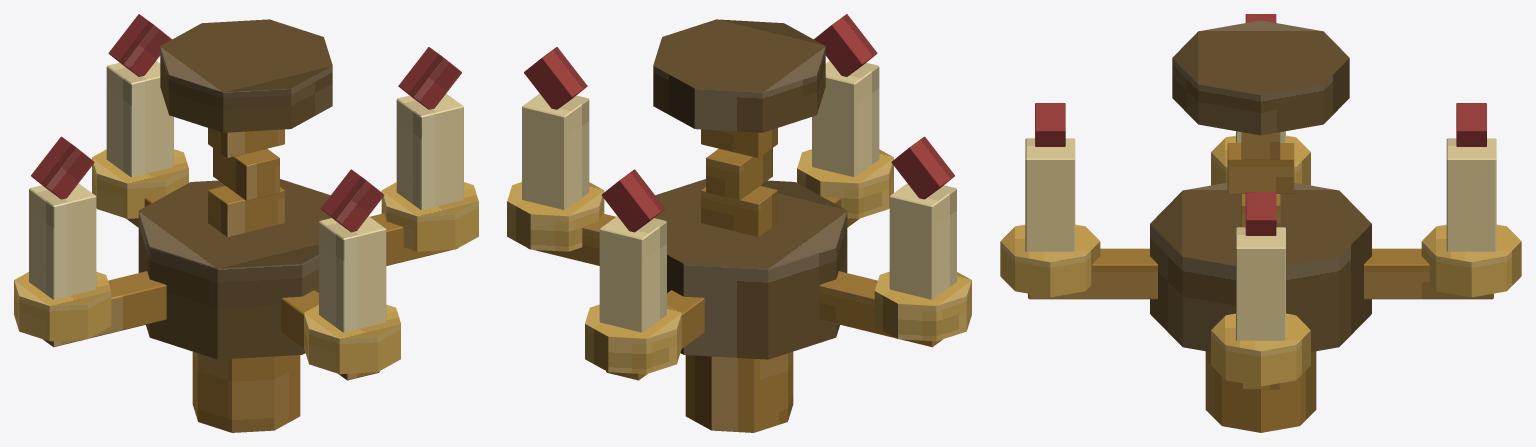
The model's file is dining_chandelier.glb.
3 views of the same model, side by side, from view 1: azimuth 30°, elevation 25°; view 2: azimuth 150°, elevation 25°; view 3: azimuth 270°, elevation 25° (orthographic).
Parts seen in each view (by area): view 1: ChandelierHub, CeilingMount, LowerFinial, Candle_1, Candle_3, Candle_2, Candle_4, CandleCup_1, CandleCup_3, CandleCup_2, CandleCup_4, Arm_1 (+9 smaller); view 2: ChandelierHub, CeilingMount, LowerFinial, Candle_1, Candle_4, Candle_2, Candle_3, CandleCup_1, CandleCup_4, CandleCup_2, CandleCup_3, Arm_1 (+9 smaller); view 3: ChandelierHub, CeilingMount, Candle_3, Candle_4, Candle_2, LowerFinial, CandleCup_2, CandleCup_3, CandleCup_4, Arm_3, Arm_4, ChainLink_2 (+5 smaller).
Part boxes in pixels (x1,y1,x2,y2): ChandelierHub: (138, 179, 331, 359); CeilingMount: (160, 19, 332, 132); LowerFinial: (192, 351, 300, 432); Candle_1: (29, 183, 96, 299); Candle_3: (319, 216, 386, 332); Candle_2: (396, 93, 463, 209); Candle_4: (106, 61, 173, 176); CandleCup_1: (14, 271, 111, 341); CandleCup_3: (304, 304, 400, 374); CandleCup_2: (381, 182, 478, 251); CandleCup_4: (92, 149, 188, 218); Arm_1: (43, 271, 166, 347); ChandelierHub: (654, 179, 847, 359); CeilingMount: (653, 19, 825, 132); LowerFinial: (685, 351, 793, 432); Candle_1: (889, 183, 956, 299); Candle_4: (599, 216, 666, 332); Candle_2: (522, 93, 589, 209); Candle_3: (812, 61, 879, 176); CandleCup_1: (874, 271, 971, 341); CandleCup_4: (585, 304, 681, 374); CandleCup_2: (507, 182, 604, 251); CandleCup_3: (797, 149, 893, 218); Arm_1: (819, 271, 942, 347); ChandelierHub: (1150, 182, 1371, 351); CeilingMount: (1172, 20, 1349, 135); Candle_3: (1025, 138, 1075, 251); Candle_4: (1446, 138, 1496, 251); Candle_2: (1236, 227, 1285, 340); LowerFinial: (1205, 351, 1316, 432); CandleCup_2: (1211, 313, 1310, 386); CandleCup_3: (1000, 224, 1100, 297); CandleCup_4: (1421, 224, 1521, 297); Arm_3: (1028, 248, 1157, 299); Arm_4: (1364, 248, 1493, 299); ChainLink_2: (1227, 143, 1294, 193).
Bounding box in the file's own units: 0.94 × 0.7 × 0.94.
Materials: 1 (1 with a texture image).
